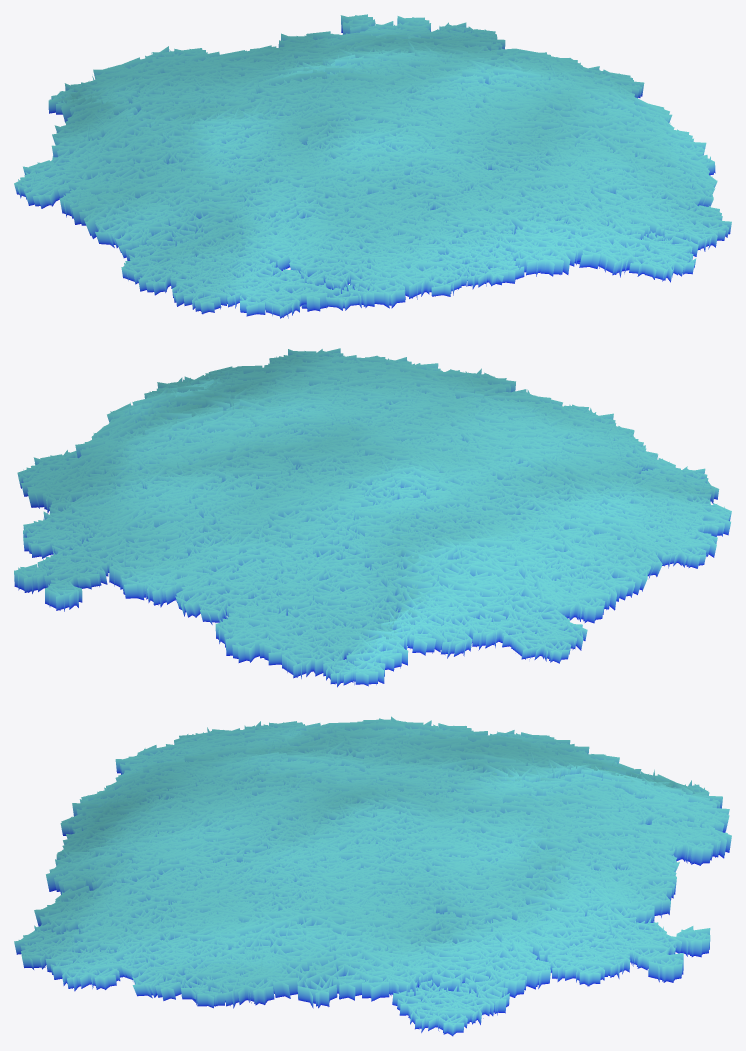
The model's file is SM_Env_Grass_Large_01.FBX.
3 views of the same model, one above another, from view 1: azimuth 30°, elevation 25°; view 2: azimuth 150°, elevation 25°; view 3: azimuth 270°, elevation 25° (orthographic). The views are drawn at different scales.
Visible parts, largest first — view 1: SM_Env_Grass_Large_01; view 2: SM_Env_Grass_Large_01; view 3: SM_Env_Grass_Large_01.
Boxes of the visible parts, bbox=[...] form: SM_Env_Grass_Large_01: bbox=[14, 14, 731, 318]; SM_Env_Grass_Large_01: bbox=[14, 348, 731, 687]; SM_Env_Grass_Large_01: bbox=[14, 716, 731, 1036].
Size of the model in its own units: 3384 by 3432 by 392.
